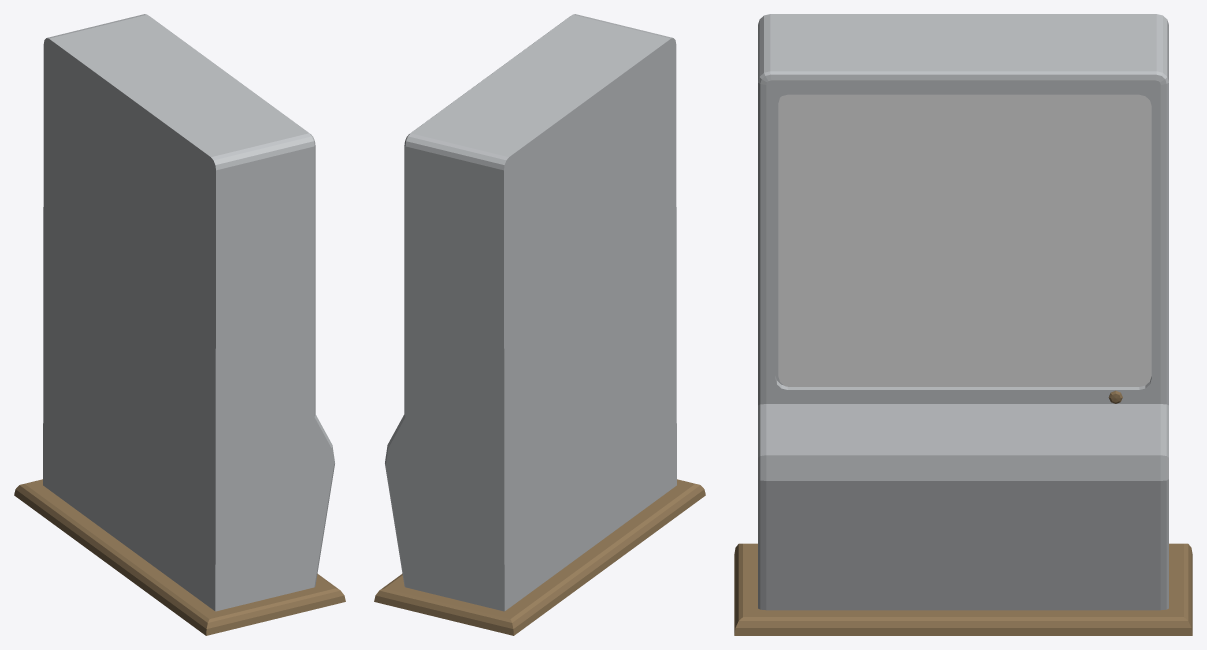
The model's file is Totem.fbx.
The picture shows the model from 3 angles, left to right: view 1: azimuth 30°, elevation 25°; view 2: azimuth 150°, elevation 25°; view 3: azimuth 270°, elevation 25°; orthographic projection. The views are drawn at different scales.
Parts seen in each view (by area): view 1: Totem_v2, Base_Totem_v2; view 2: Totem_v2, Base_Totem_v2; view 3: Totem_v2, Pantalla_Totem_v2, Base_Totem_v2.
Part boxes in pixels (x1=…): Totem_v2: x1=43, y1=14, x2=334, y2=611; Base_Totem_v2: x1=14, y1=479, x2=345, y2=635; Totem_v2: x1=385, y1=14, x2=676, y2=611; Base_Totem_v2: x1=374, y1=479, x2=705, y2=635; Totem_v2: x1=758, y1=14, x2=1168, y2=610; Pantalla_Totem_v2: x1=778, y1=94, x2=1151, y2=386; Base_Totem_v2: x1=734, y1=543, x2=1192, y2=635.
Size of the model in its own units: 94.27 by 296 by 223.
